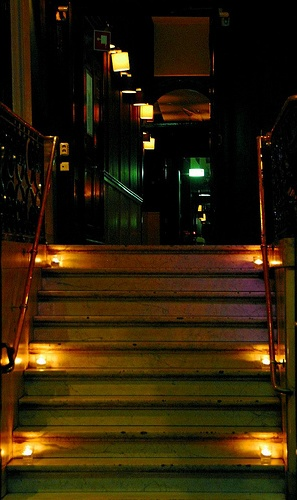stairs_up: (28, 227, 287, 484)
